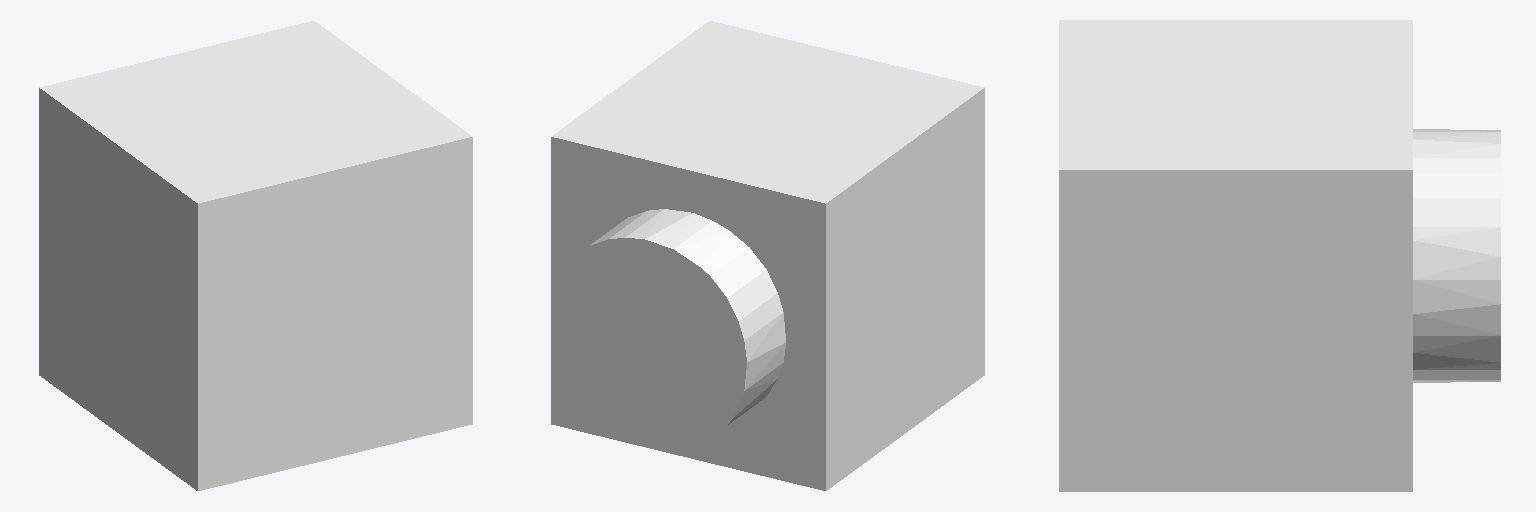
URDF robot description (Circle_cube_cap_preprocessed_convex):
<?xml version="1.0" ?>
<robot name="Circle_cube_cap_preprocessed_convex">
  <link name="baseLink">
    <contact>
    	<friction_anchor/>
    	   <lateral_friction value="1.0"/>
    </contact>
    <inertial>
      <origin rpy="0 0 0" xyz="0 0 0"/>
       <!-- mass controls penetration -->
       <mass value=".5"/>
       <inertia ixx="1e-4" ixy="0" ixz="0" iyy="1e-4" iyz="0" izz="1e-4"/>
    </inertial>
    <visual>
      <origin rpy="0 0 0" xyz="0 0 0"/>
      <geometry>
        <mesh filename="Circle_cube_cap_preprocessed_convex.obj"/>
      </geometry>
       <material name="white">
        <color rgba="1 1 1 1"/>
      </material>
    </visual>
    <collision>
      <origin rpy="0 0 0" xyz="0 0 0"/>
      <geometry>
        <mesh filename="Circle_cube_cap_preprocessed_convex.obj"/>
      </geometry>
    </collision>
  </link>
</robot>

--- Render facts (derived) ---
The picture shows the robot from 3 angles, left to right: view 1: azimuth 30°, elevation 25°; view 2: azimuth 150°, elevation 25°; view 3: azimuth 270°, elevation 25°; orthographic projection.
Robot: Circle_cube_cap_preprocessed_convex — 1 links, 0 joints (none); root link baseLink; default pose: every joint at zero.
Visible links, largest first — view 1: baseLink; view 2: baseLink; view 3: baseLink.
Boxes of the visible links, left/top/right/bottom form: baseLink: left=39, top=21, right=472, bottom=490; baseLink: left=551, top=21, right=984, bottom=490; baseLink: left=1059, top=20, right=1500, bottom=491.
Bounding box of the posed robot: 0.0808 × 0.1008 × 0.0808 m (x, y, z).
1 mesh visuals loaded from 1 distinct referenced files (1 OBJ).